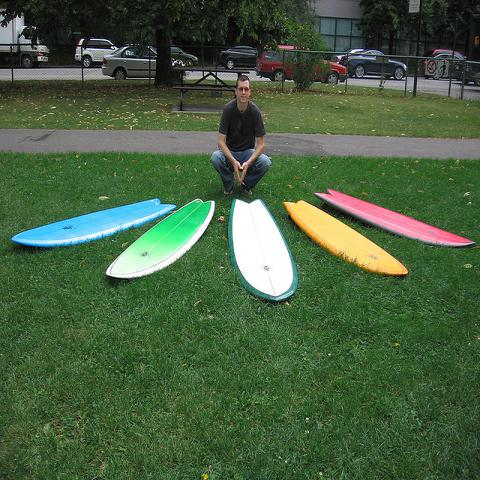car: (253, 45, 346, 84), (102, 41, 158, 82), (341, 49, 406, 80), (74, 36, 120, 67), (219, 47, 259, 71), (422, 48, 448, 77), (452, 61, 480, 87), (331, 48, 365, 64), (171, 47, 198, 67), (429, 50, 464, 60), (434, 54, 461, 59)
truck: (0, 10, 49, 68)
